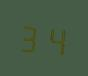four: (43, 20, 66, 57)
three: (19, 17, 42, 55)
